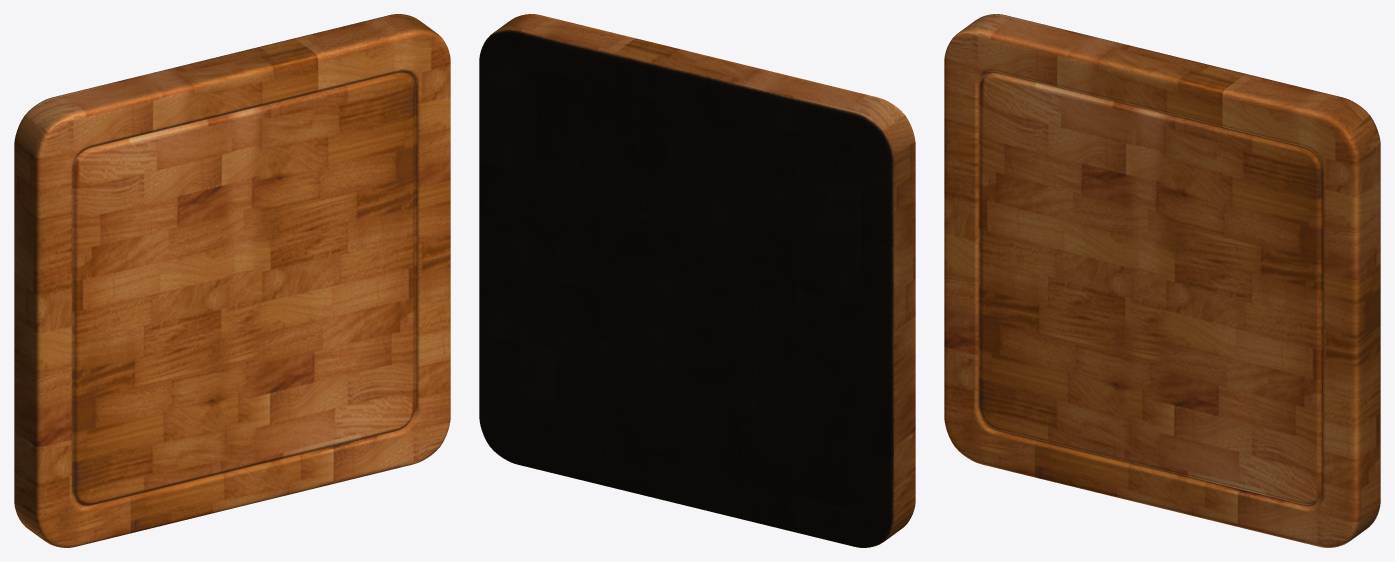
File: WoodenBoard.glb
The picture shows the model from 3 angles, left to right: view 1: azimuth 30°, elevation 25°; view 2: azimuth 150°, elevation 25°; view 3: azimuth 330°, elevation 25°; orthographic projection.
Parts seen in each view (by area): view 1: WoodenBoard; view 2: WoodenBoard; view 3: WoodenBoard.
Part boxes in pixels (x1,y1,x2,y2): WoodenBoard: (14, 14, 450, 547); WoodenBoard: (479, 14, 915, 547); WoodenBoard: (944, 14, 1380, 547).
Bounding box in the file's own units: 31.96 × 31.96 × 3.31.
1 material, 1 textured.
